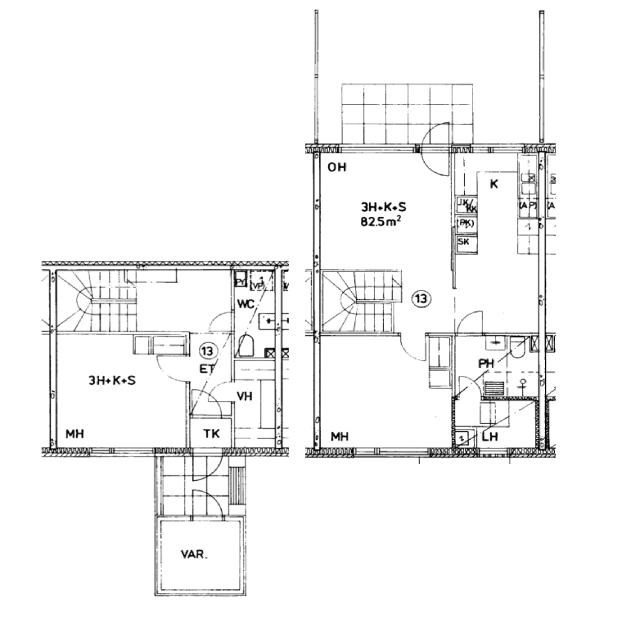door: (418, 121, 453, 179), (153, 352, 189, 384), (192, 446, 224, 482), (187, 491, 225, 520), (188, 388, 224, 418), (454, 308, 488, 338), (397, 333, 428, 364), (205, 308, 236, 332), (453, 372, 481, 396), (208, 379, 236, 403)
window: (349, 444, 434, 462), (327, 142, 417, 157), (86, 444, 154, 461), (468, 142, 525, 156), (477, 447, 510, 460), (447, 207, 455, 226)
zone: (312, 148, 455, 277), (454, 146, 543, 346), (308, 334, 452, 455), (49, 335, 187, 453), (125, 266, 238, 334), (154, 519, 243, 597), (452, 334, 543, 398), (233, 264, 279, 359), (231, 377, 281, 451), (477, 398, 539, 453), (186, 331, 231, 366), (454, 213, 477, 236), (428, 368, 451, 389), (454, 234, 475, 254)
